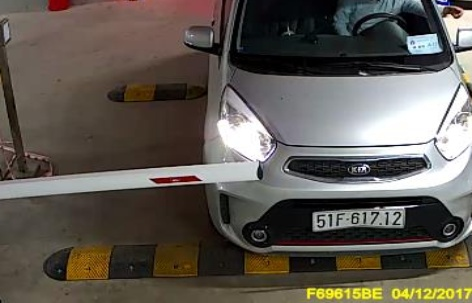plate: (311, 205, 408, 236)
